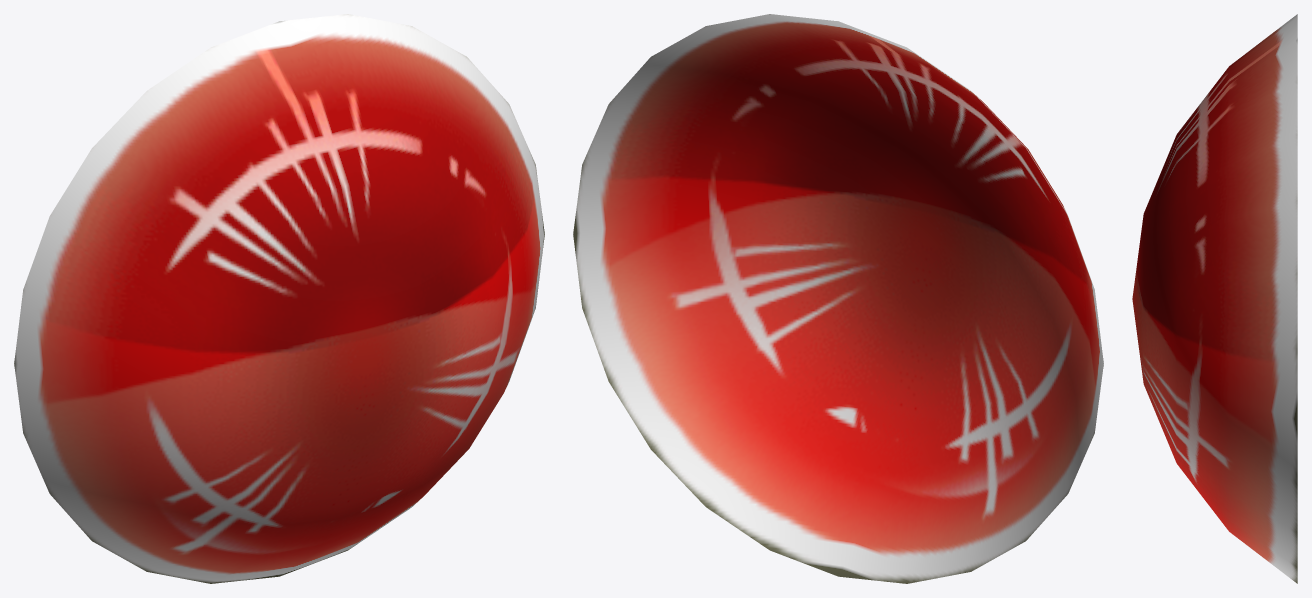
Rendered from eye_qiu_1.FBX.
The picture shows the model from 3 angles, left to right: view 1: azimuth 30°, elevation 25°; view 2: azimuth 150°, elevation 25°; view 3: azimuth 270°, elevation 25°; orthographic projection. The views are drawn at different scales.
Parts seen in each view (by area): view 1: eye_qiu_1; view 2: eye_qiu_1; view 3: eye_qiu_1.
Boxes of the visible parts, <box> form: eye_qiu_1: <box>14,14,544,583</box>; eye_qiu_1: <box>573,14,1103,583</box>; eye_qiu_1: <box>1132,14,1297,583</box>.
Size of the model in its own units: 55.05 by 55.05 by 15.89.
Materials: 1 (1 with a texture image).
